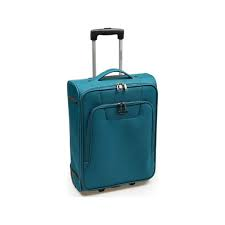suitcase: (62, 28, 163, 197)
